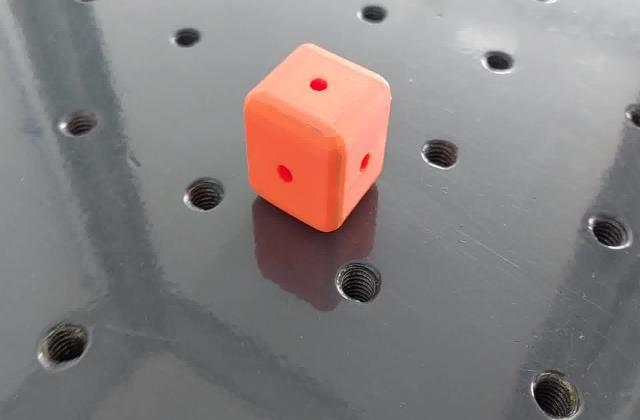cube: (241, 40, 395, 237)
